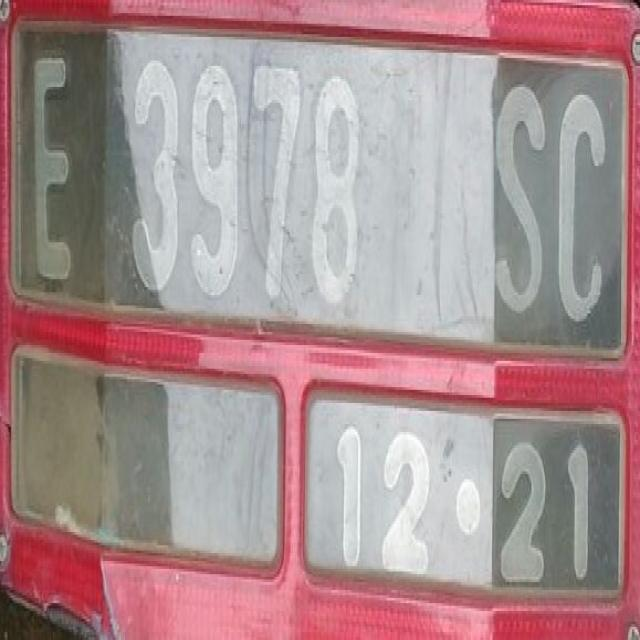plate: (8, 13, 631, 606)
